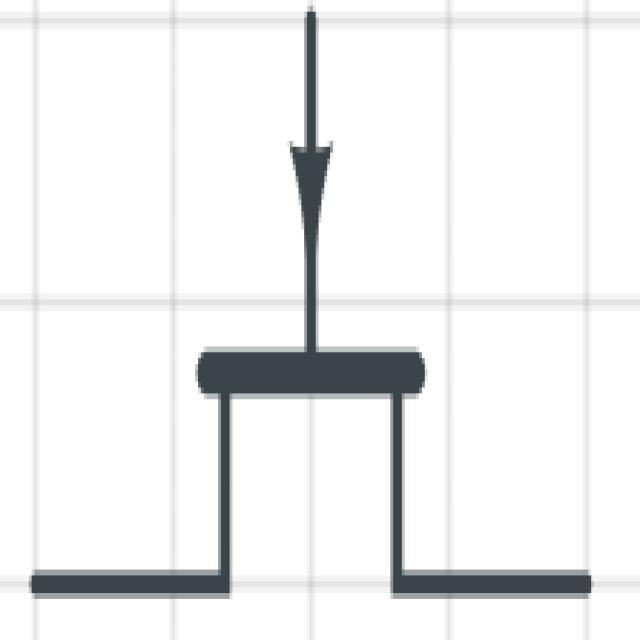nmos: (15, 14, 601, 632)
